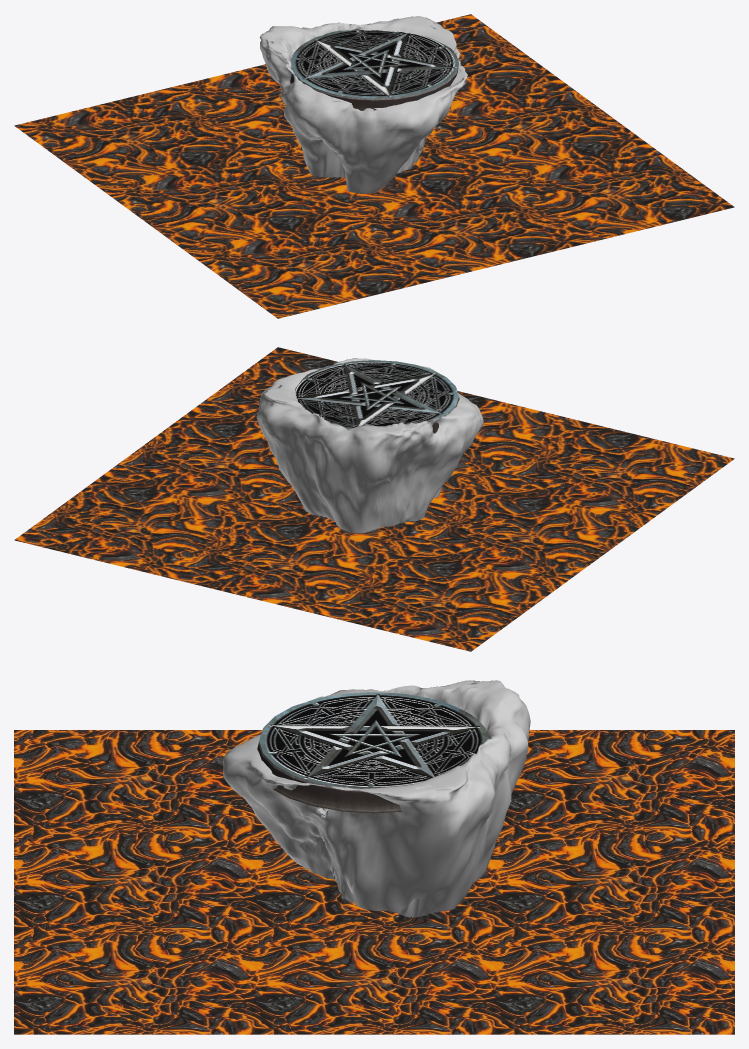
Rendered from arena_hell_textured.FBX.
3 views of the same model, one above another, from view 1: azimuth 30°, elevation 25°; view 2: azimuth 150°, elevation 25°; view 3: azimuth 270°, elevation 25° (orthographic). The views are drawn at different scales.
Parts seen in each view (by area): view 1: Plane001, Rock001, Cone002; view 2: Plane001, Rock001, Cone002; view 3: Plane001, Rock001, Cone002.
Part boxes in pixels (left/top/right/bottom): Plane001: left=14, top=14, right=734, bottom=318; Rock001: left=259, top=16, right=467, bottom=193; Cone002: left=290, top=28, right=458, bottom=110; Plane001: left=14, top=347, right=734, bottom=651; Rock001: left=256, top=358, right=483, bottom=533; Cone002: left=295, top=360, right=459, bottom=433; Plane001: left=14, top=730, right=734, bottom=1034; Rock001: left=222, top=680, right=530, bottom=917; Cone002: left=257, top=692, right=488, bottom=813.
Bounding box in the file's own units: 300 × 115 × 300.
